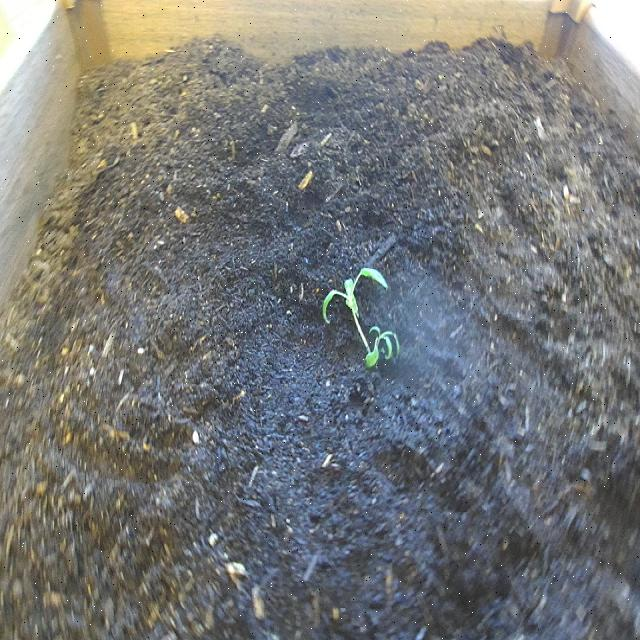Unhealthy: (321, 260, 403, 378)
